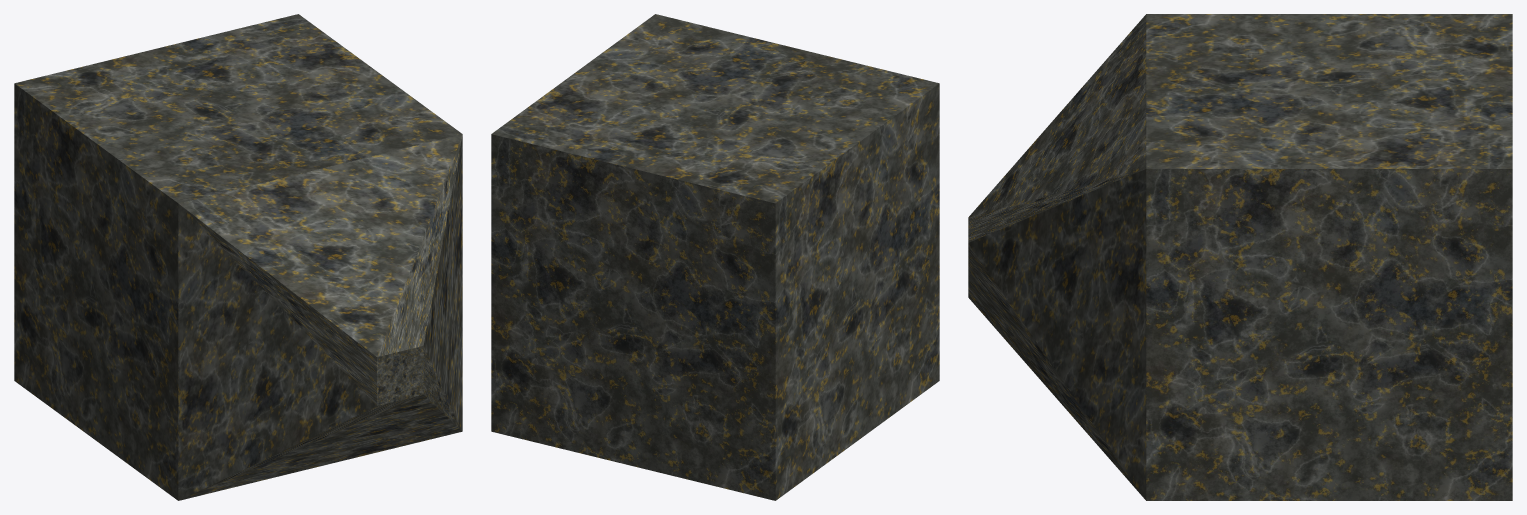
File: wall.obj
3 renders of one model, left to right at view 1: azimuth 30°, elevation 25°; view 2: azimuth 150°, elevation 25°; view 3: azimuth 270°, elevation 25°, orthographic. The views are drawn at different scales.
Parts seen in each view (by area): view 1: Cube; view 2: Cube; view 3: Cube.
Boxes of the visible parts, x1=… form: Cube: x1=14, y1=14, x2=462, y2=500; Cube: x1=491, y1=14, x2=939, y2=500; Cube: x1=968, y1=14, x2=1512, y2=500.
Bounding box in the file's own units: 1 × 1 × 1.49.
1 material, 1 textured.
